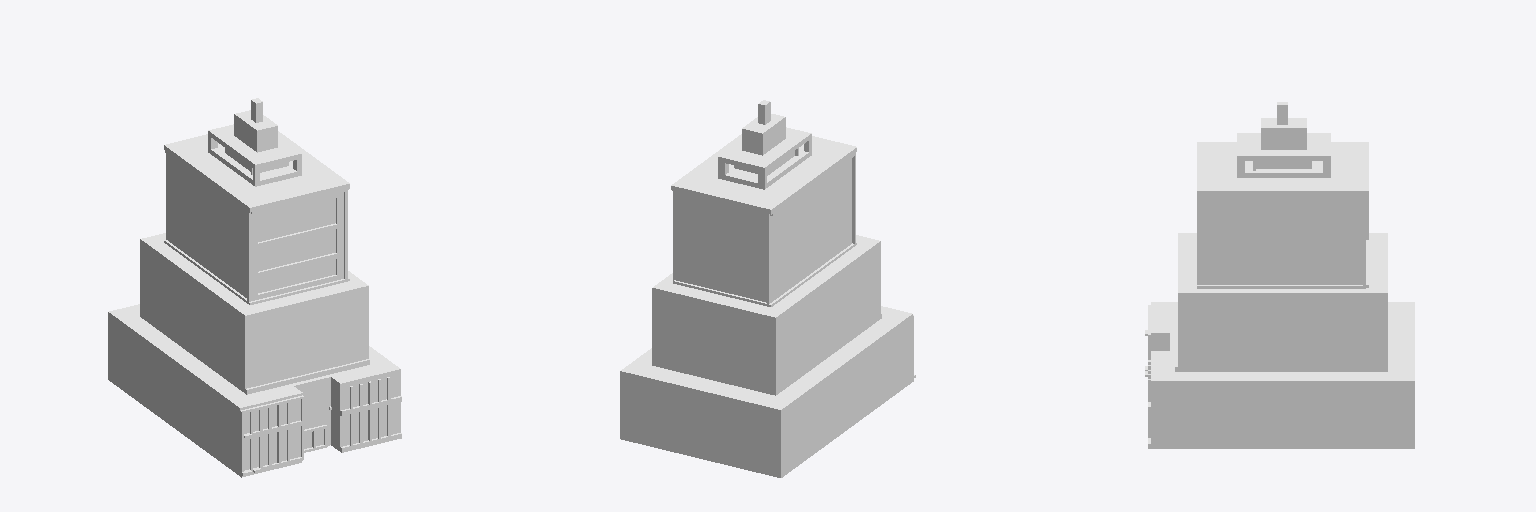
The model's file is White_tower.obj.
3 views of the same model, side by side, from view 1: azimuth 30°, elevation 25°; view 2: azimuth 150°, elevation 25°; view 3: azimuth 270°, elevation 25° (orthographic).
Visible parts, largest first — view 1: object 1; view 2: object 1; view 3: object 1.
Part boxes in pixels (left/top/right/bottom): object 1: left=108, top=98, right=401, bottom=477; object 1: left=620, top=100, right=915, bottom=477; object 1: left=1145, top=102, right=1414, bottom=448.
Bounding box in the file's own units: 6.9 × 12.6 × 10.